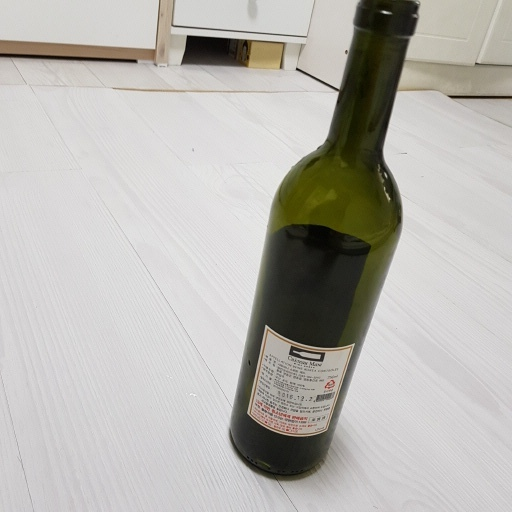Glass_2: (227, 1, 426, 480)
